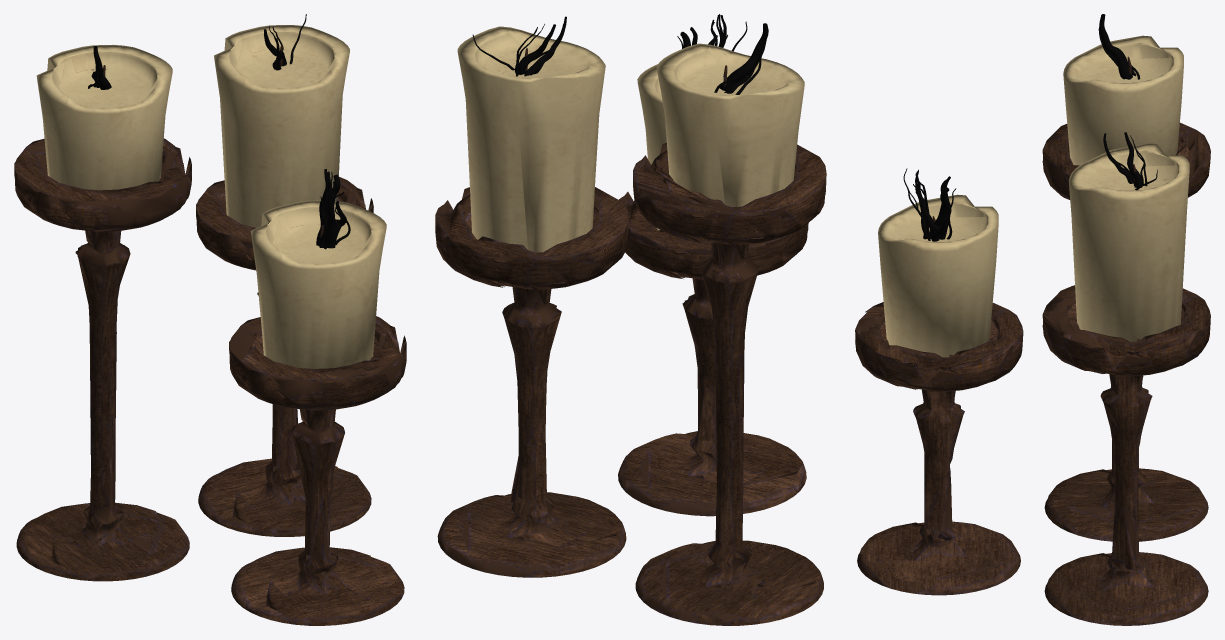
The model's file is candle 8.obj.
The picture shows the model from 3 angles, left to right: view 1: azimuth 30°, elevation 25°; view 2: azimuth 150°, elevation 25°; view 3: azimuth 270°, elevation 25°; orthographic projection. The views are drawn at different scales.
Parts seen in each view (by area): view 1: directionalLight2; view 2: directionalLight2; view 3: directionalLight2.
Part boxes in pixels (x1,y1,x2,y2): directionalLight2: (14,14,406,625); directionalLight2: (435,14,826,625); directionalLight2: (855,14,1210,625).
Size of the model in its own units: 4.11 by 5.98 by 3.99.
Materials: 6 (3 with a texture image).
